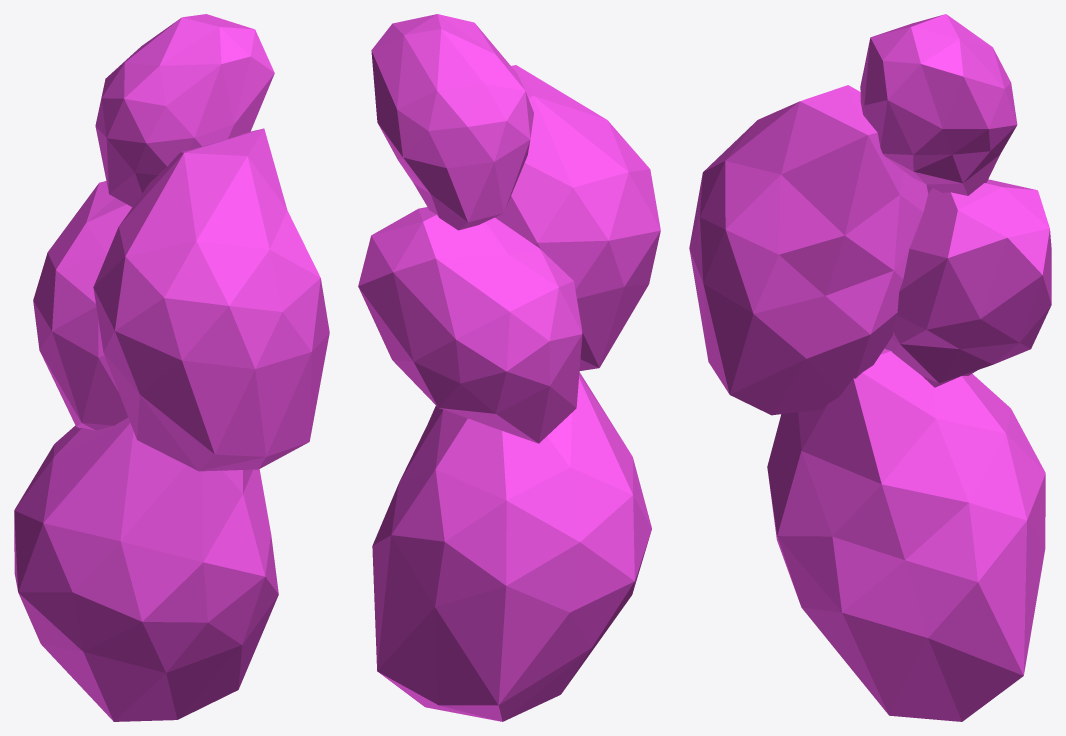
Rendered from mesh_FoliageBushes1.FBX.
3 views of the same model, side by side, from view 1: azimuth 30°, elevation 25°; view 2: azimuth 150°, elevation 25°; view 3: azimuth 270°, elevation 25° (orthographic). The views are drawn at different scales.
Parts seen in each view (by area): view 1: Object003; view 2: Object003; view 3: Object003.
Boxes of the visible parts, x1,y1,x2,y2 form: Object003: (14, 14, 329, 721); Object003: (358, 14, 660, 721); Object003: (689, 14, 1051, 721).
Bounding box in the file's own units: 168 × 447 × 208.
